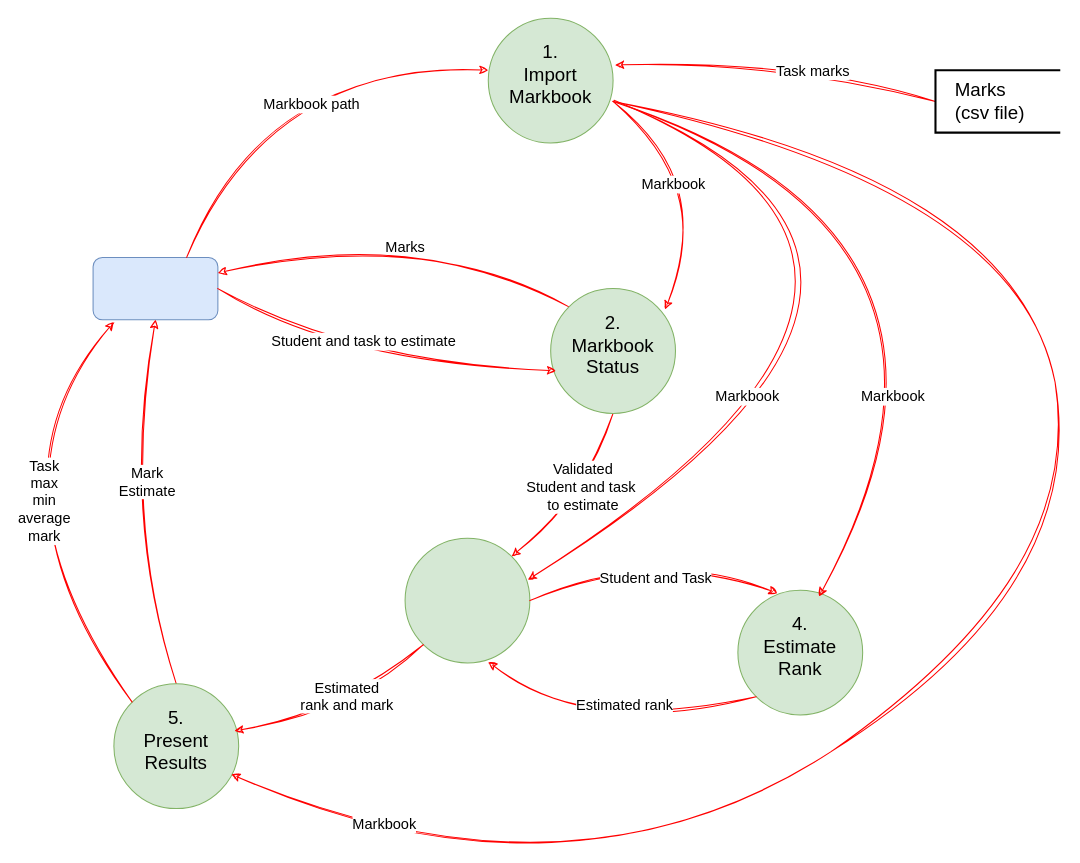
The diagram is 1080 pixels wide and 863 high, and some of its shapes have lost their labels. The centre of each missing label's shape, as x and y in pixels:
3. Estimate Mark: the point at 467,600
Teacher: the point at 155,288
